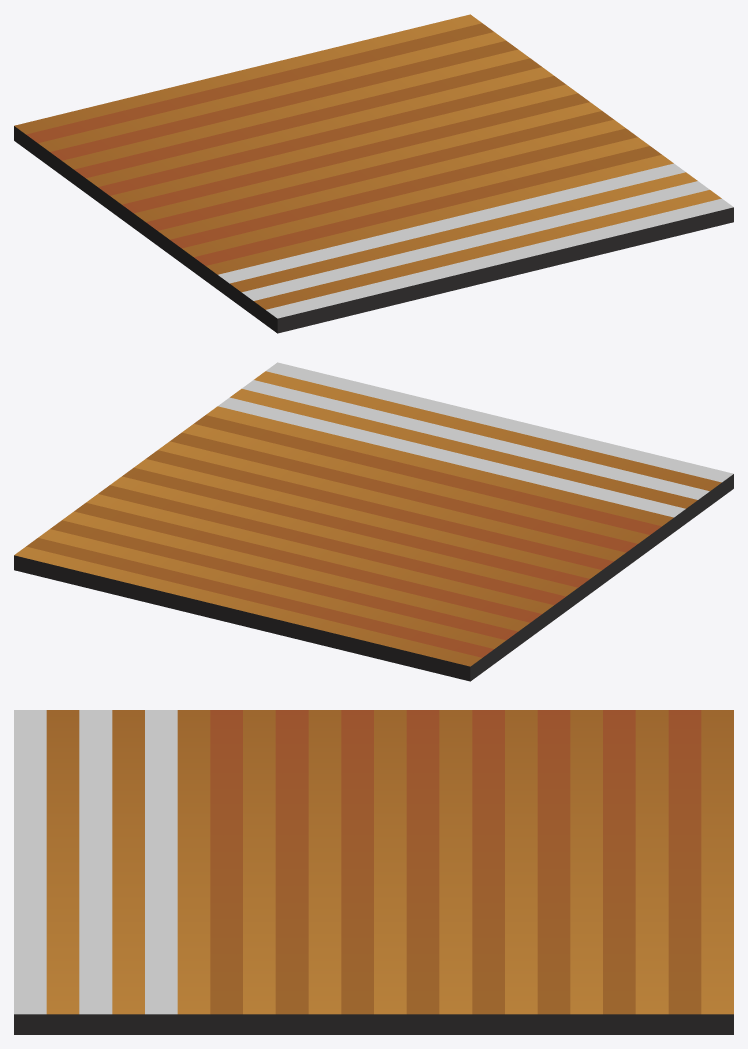
The model's file is SM_Pol.fbx.
3 renders of one model, top to bottom at view 1: azimuth 30°, elevation 25°; view 2: azimuth 150°, elevation 25°; view 3: azimuth 270°, elevation 25°, orthographic. The views are drawn at different scales.
Parts seen in each view (by area): view 1: Cube.001; view 2: Cube.001; view 3: Cube.001.
Boxes of the visible parts, x1,y1,x2,y2 form: Cube.001: (14,14,733,333); Cube.001: (14,362,733,681); Cube.001: (14,710,733,1034).
Bounding box in the file's own units: 800 × 800 × 25.
